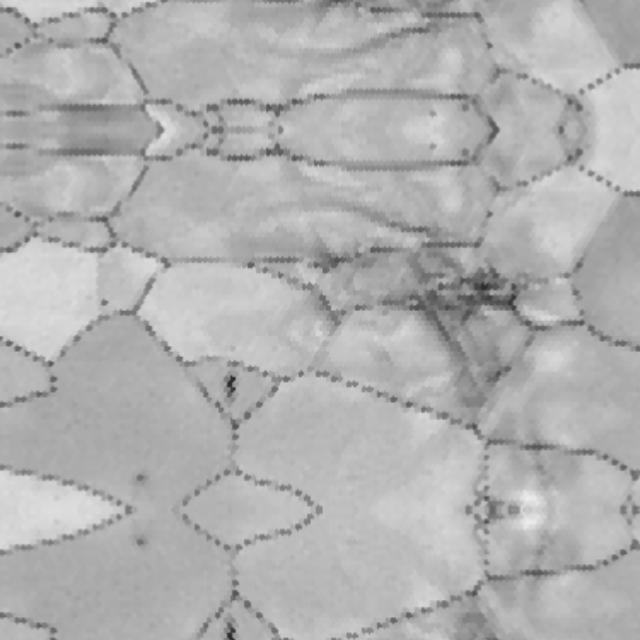good_void: (379, 224, 527, 417), (311, 250, 341, 275), (223, 371, 242, 407), (223, 615, 242, 640), (312, 0, 341, 11), (133, 472, 150, 486), (133, 536, 150, 550), (98, 297, 111, 310), (461, 148, 471, 158), (461, 103, 471, 113), (429, 141, 438, 152), (429, 109, 438, 119)
